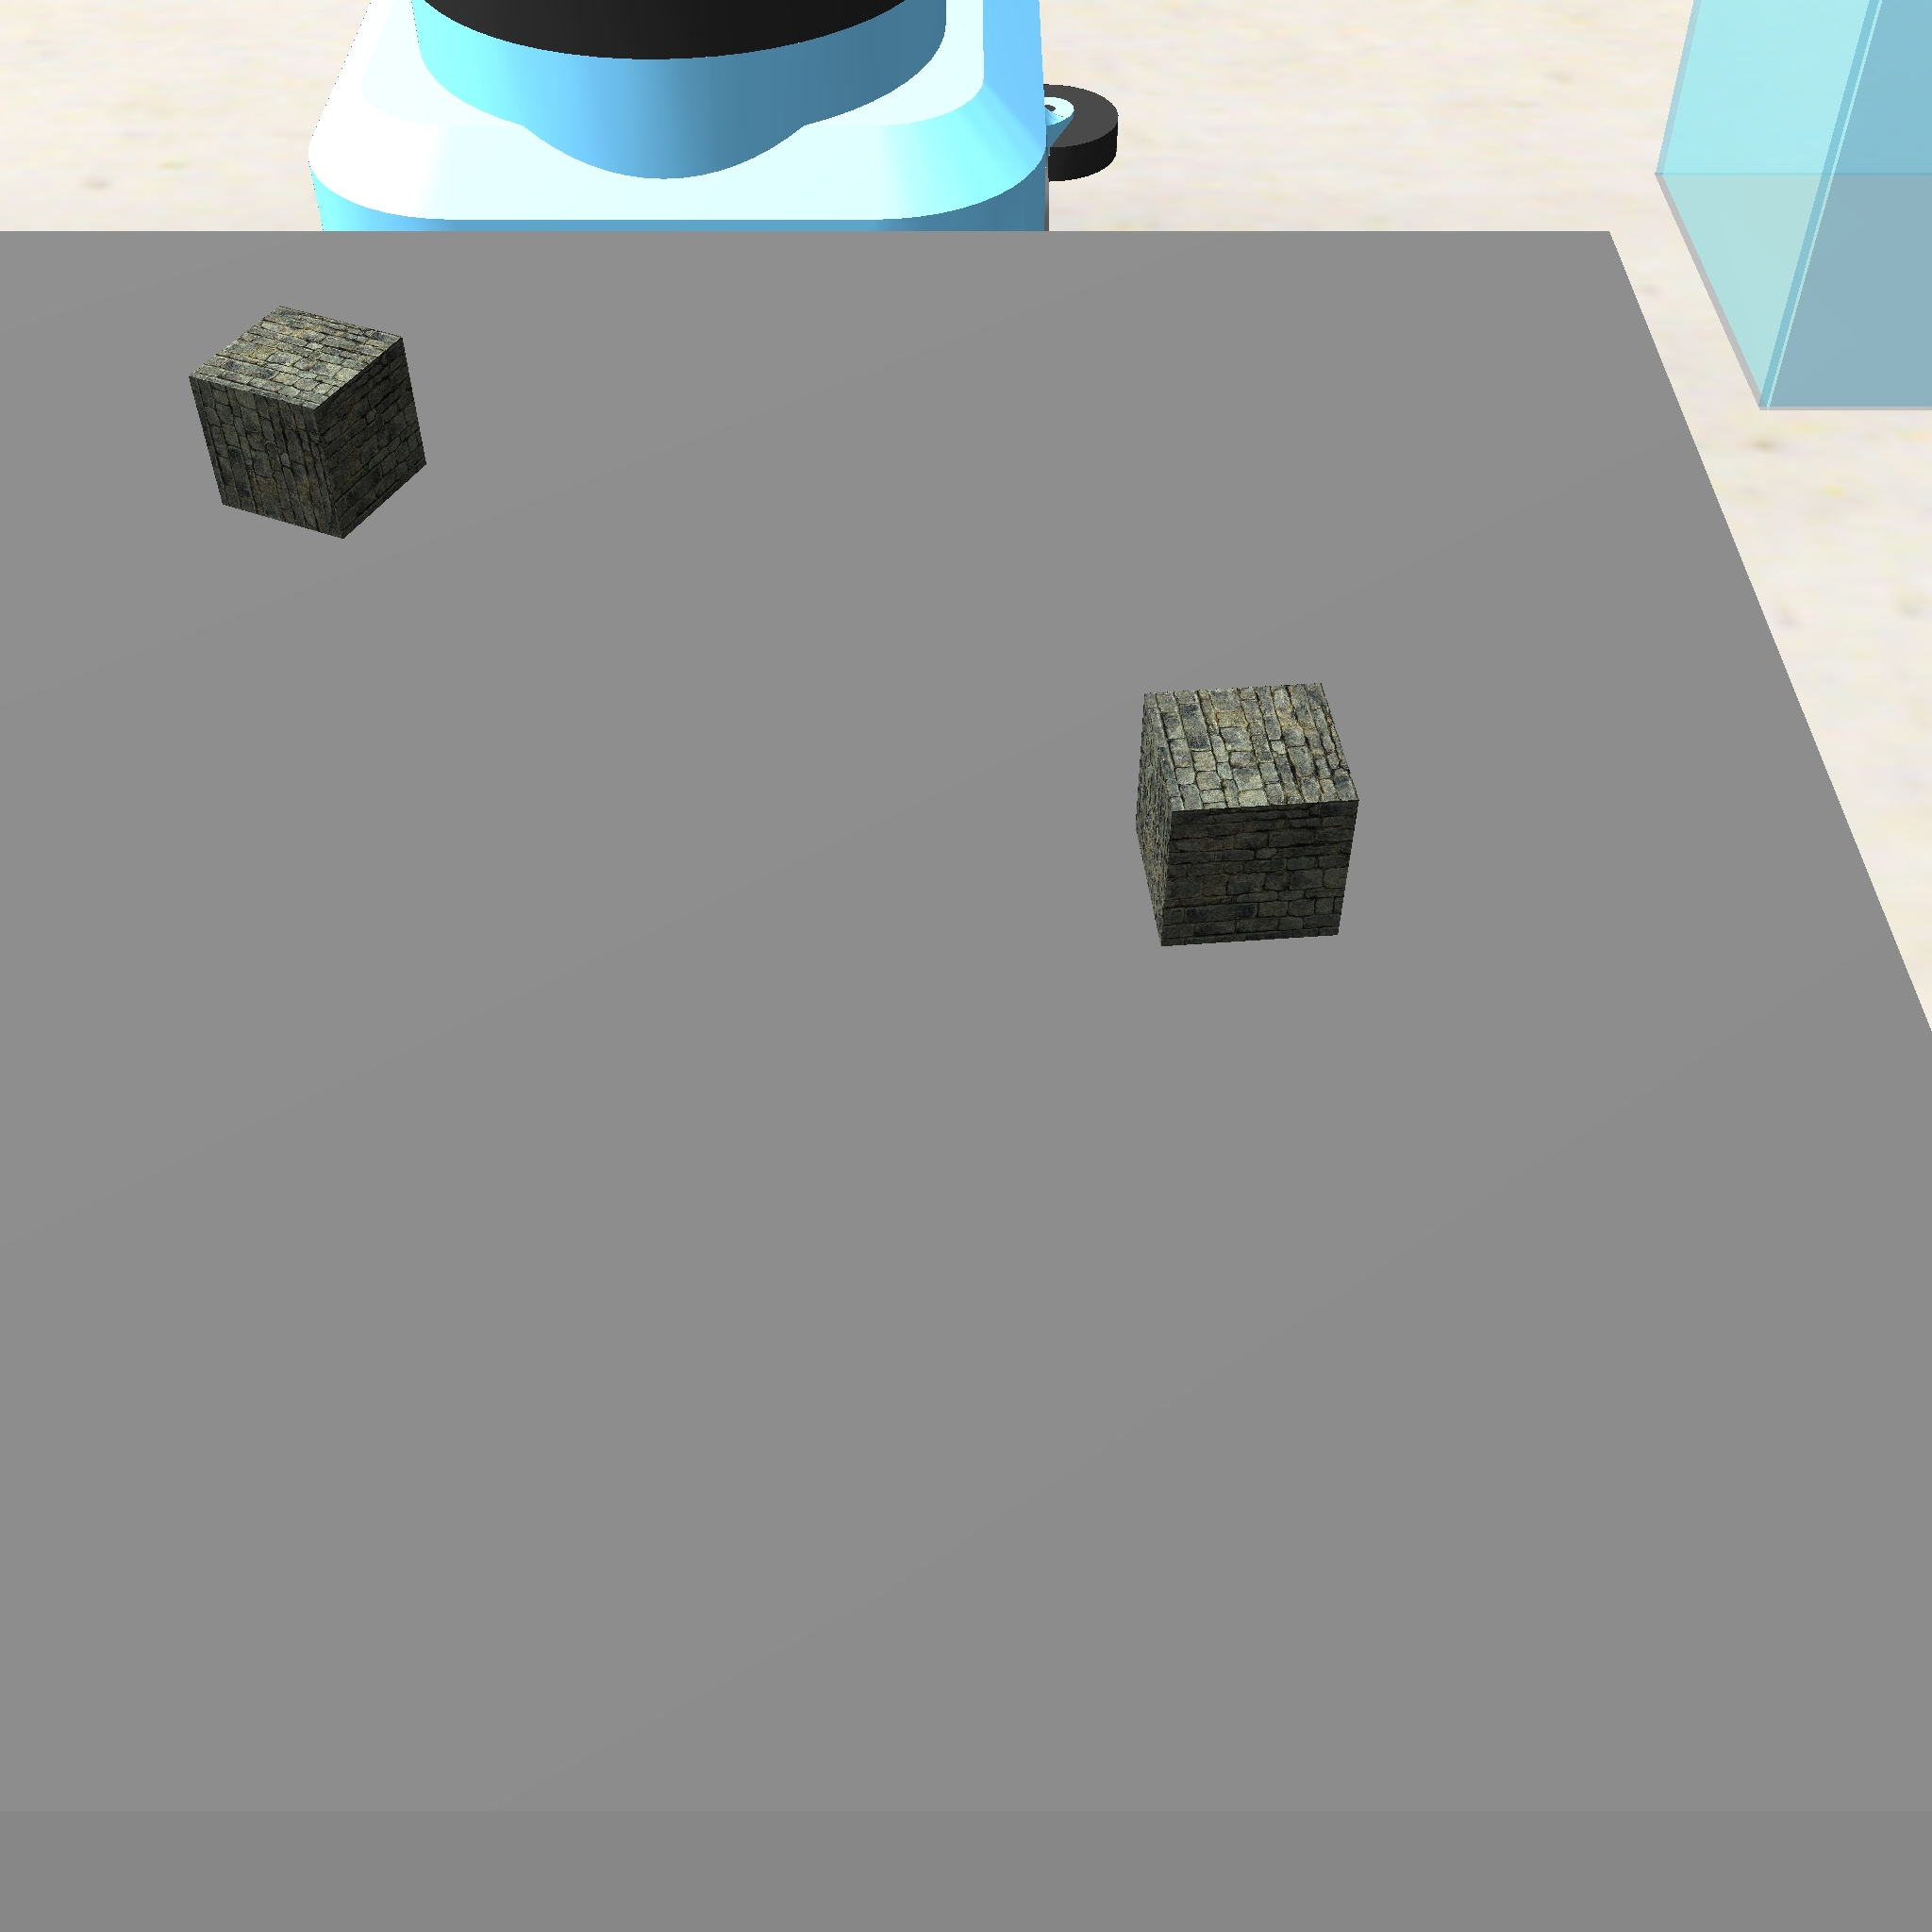cube: (1125, 674, 1371, 954), (179, 294, 435, 547)
